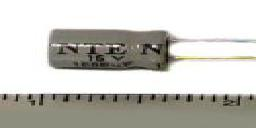Electrolytic-Capacitor: (47, 26, 256, 72)
